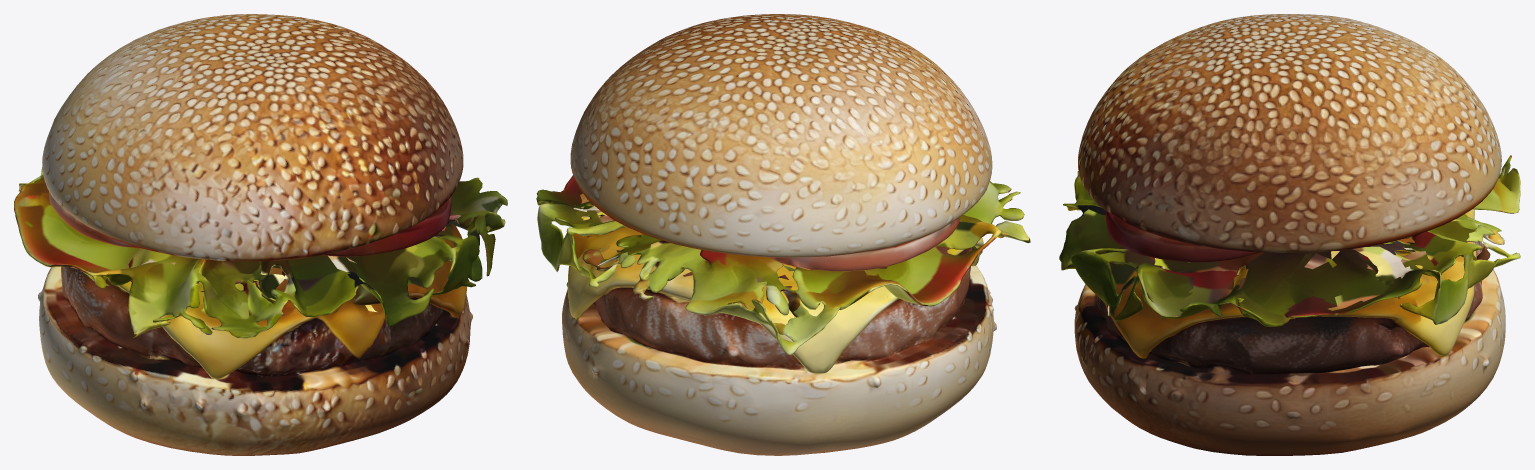
The model's file is burger-optimized.glb.
3 renders of one model, left to right at view 1: azimuth 30°, elevation 25°; view 2: azimuth 150°, elevation 25°; view 3: azimuth 270°, elevation 25°, orthographic.
Visible parts, largest first — view 1: Burger; view 2: Burger; view 3: Burger.
Boxes of the visible parts, <box> form: Burger: <box>14,14,507,455</box>; Burger: <box>536,14,1030,455</box>; Burger: <box>1059,14,1520,455</box>.
Bounding box in the file's own units: 0.1445 × 0.12 × 0.1455.
Materials: 1 (1 with a texture image).
